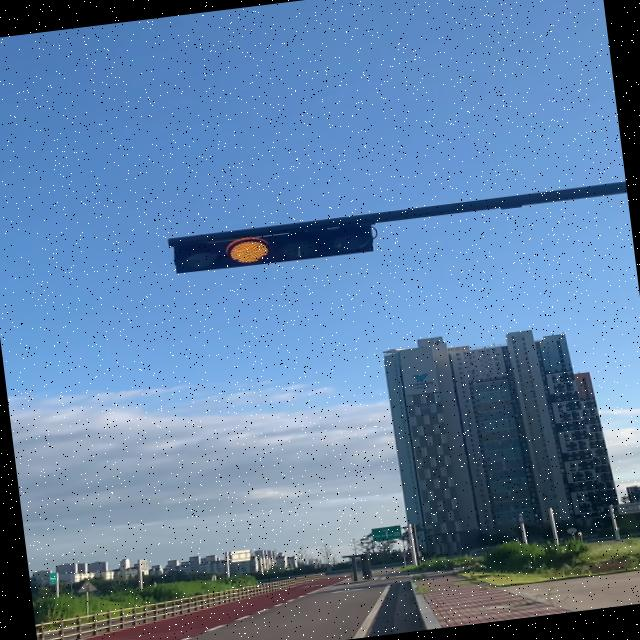yellow_light: (172, 219, 375, 276)
